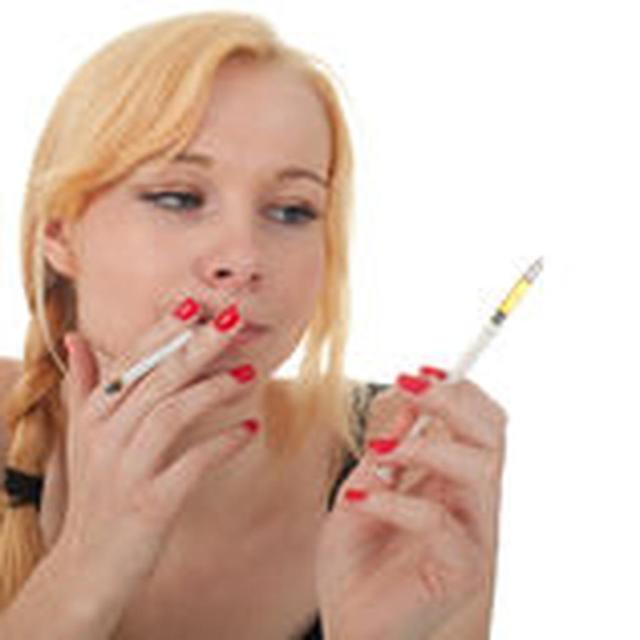smoking: (44, 26, 566, 582)
